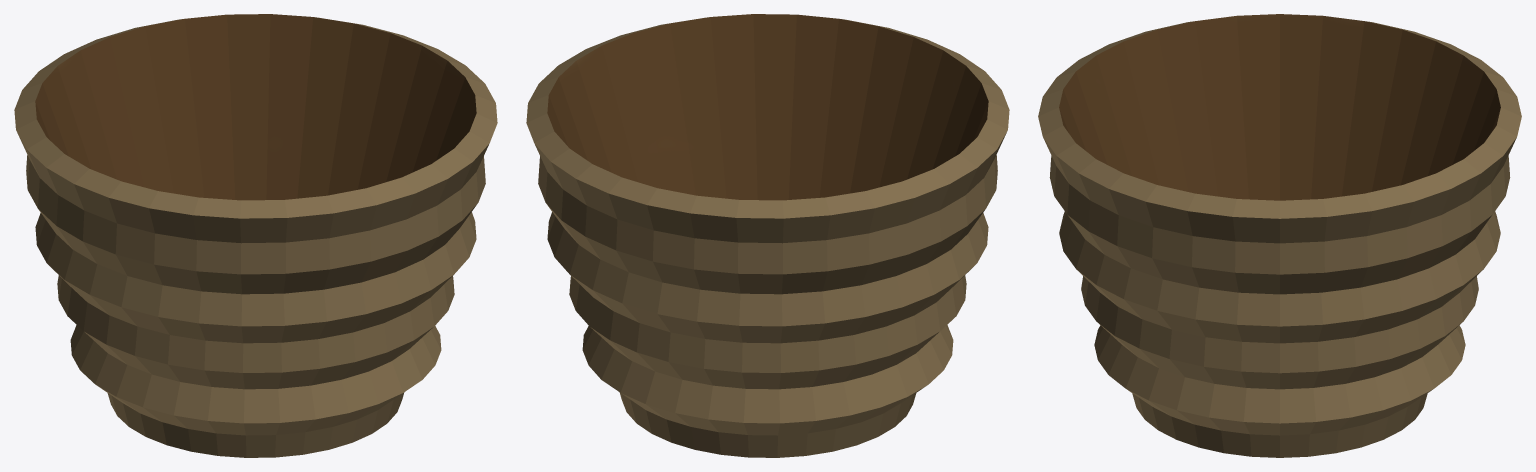
File: copo1.fbx
3 renders of one model, left to right at view 1: azimuth 30°, elevation 25°; view 2: azimuth 150°, elevation 25°; view 3: azimuth 270°, elevation 25°, orthographic.
Visible parts, largest first — view 1: Cylinder; view 2: Cylinder; view 3: Cylinder.
Part boxes in pixels (x1,y1,x2,y2): Cylinder: (14,14,497,457); Cylinder: (526,14,1009,457); Cylinder: (1038,14,1521,457).
Size of the model in its own units: 202 by 133 by 202.
Materials: 1 (1 with a texture image).
